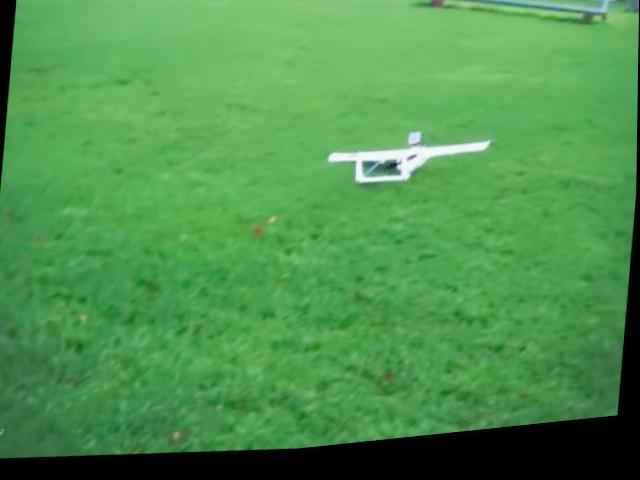uav: (321, 122, 499, 218)
